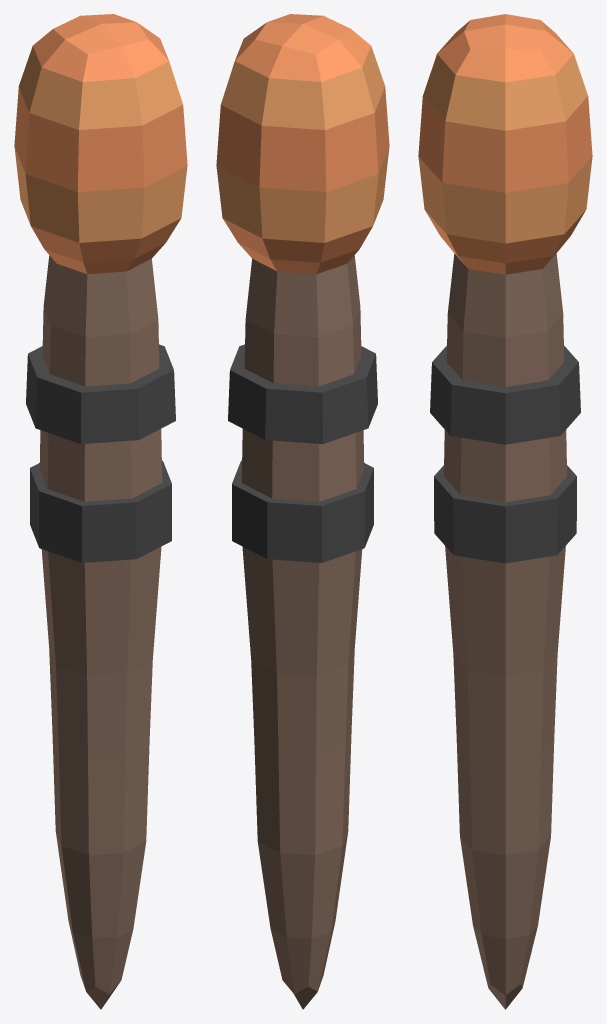
File: Torch.fbx
3 views of the same model, side by side, from view 1: azimuth 30°, elevation 25°; view 2: azimuth 150°, elevation 25°; view 3: azimuth 270°, elevation 25° (orthographic).
Parts seen in each view (by area): view 1: Torch; view 2: Torch; view 3: Torch.
Part boxes in pixels (x1,y1,x2,y2): Torch: (14,14,187,1009); Torch: (216,14,389,1009); Torch: (418,14,592,1009).
Size of the model in its own units: 40.35 by 252 by 40.35.
